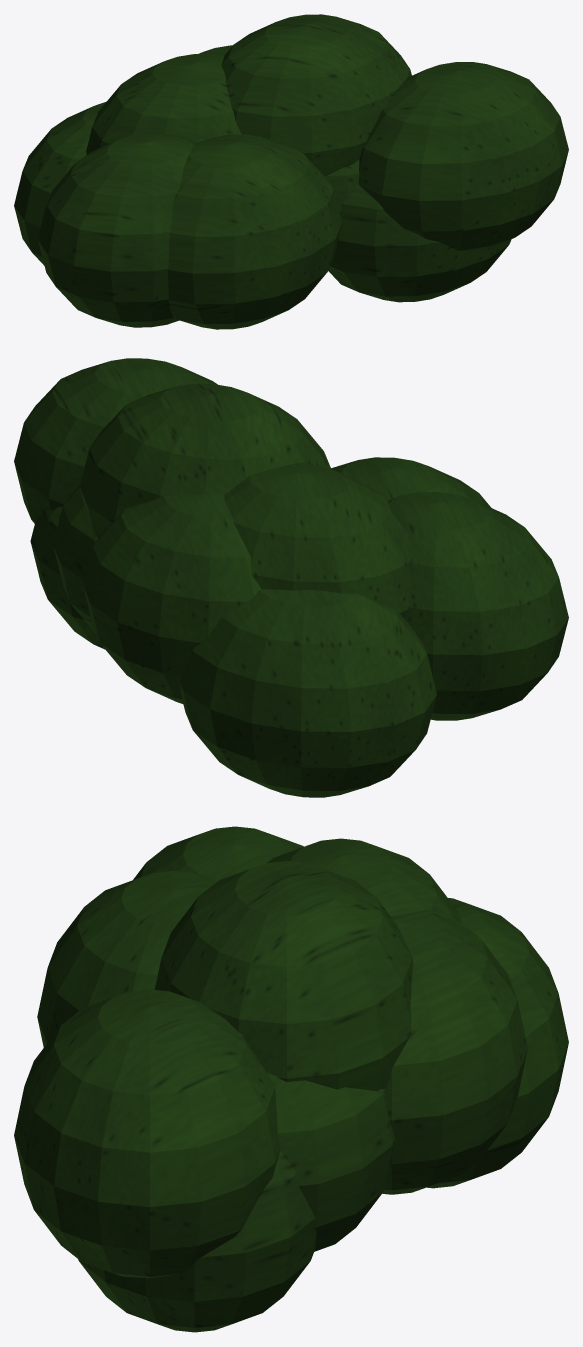
Rendered from PROP-22E75A0AB4D0_lod0.glb.
3 renders of one model, top to bottom at view 1: azimuth 30°, elevation 25°; view 2: azimuth 150°, elevation 25°; view 3: azimuth 270°, elevation 25°, orthographic. The views are drawn at different scales.
Visible parts, largest first — view 1: foliage.001; view 2: foliage.001; view 3: foliage.001.
Part boxes in pixels (left/top/right/bottom): foliage.001: left=14, top=14, right=568, bottom=329; foliage.001: left=14, top=358, right=568, bottom=797; foliage.001: left=14, top=826, right=568, bottom=1332.
Size of the model in its own units: 1.43 by 0.7509 by 0.9799.
Materials: 2 (2 with a texture image).
